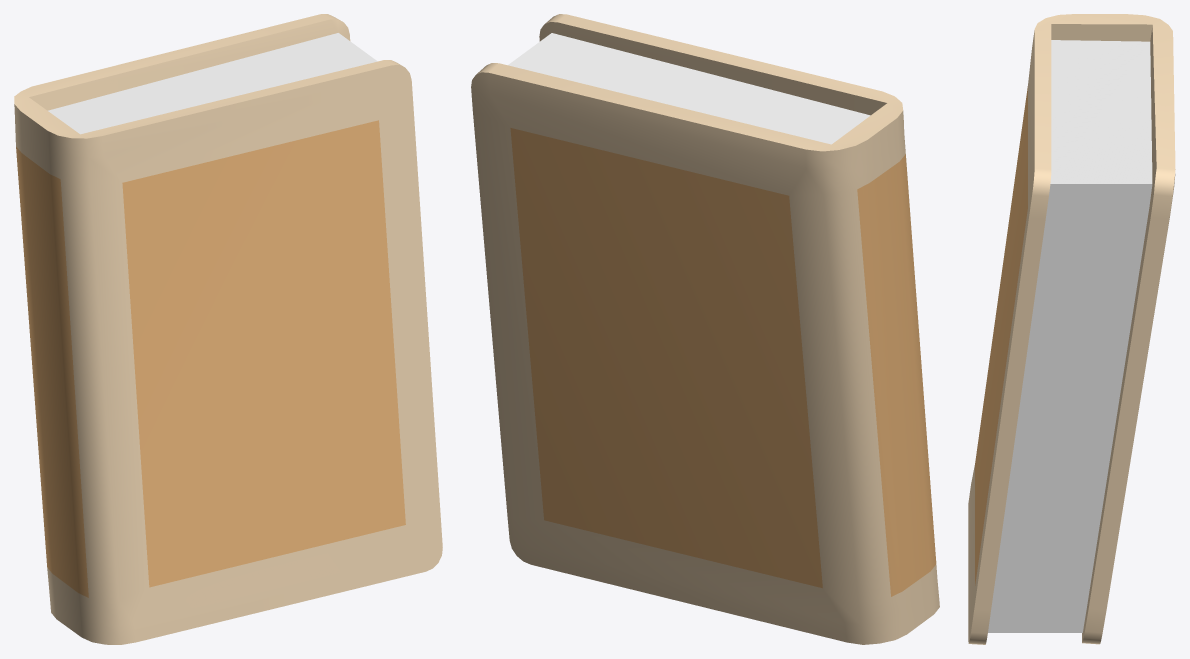
Rendered from book_14.fbx.
3 views of the same model, side by side, from view 1: azimuth 30°, elevation 25°; view 2: azimuth 150°, elevation 25°; view 3: azimuth 270°, elevation 25° (orthographic). The views are drawn at different scales.
Parts seen in each view (by area): view 1: book_14; view 2: book_14; view 3: book_14.
Boxes of the visible parts, <box> form: book_14: <box>14,14,442,644</box>; book_14: <box>471,14,939,644</box>; book_14: <box>968,14,1175,644</box>.
Size of the model in its own units: 0.2761 by 0.3732 by 0.147.
